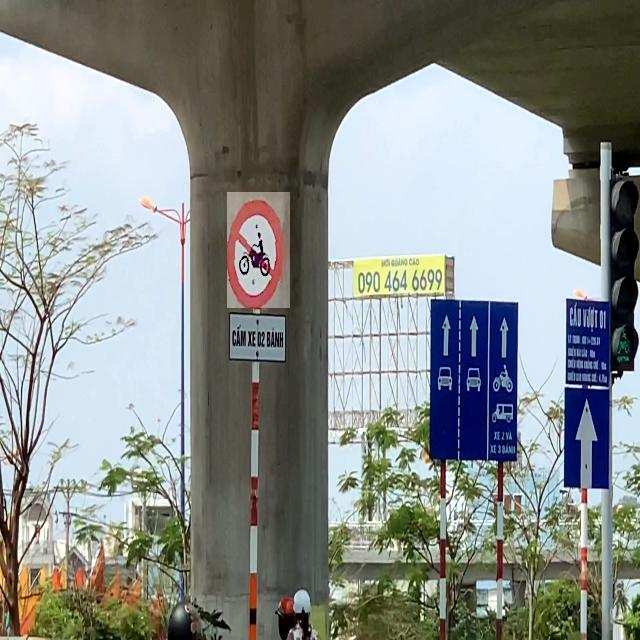P-104: (227, 192, 290, 308)
